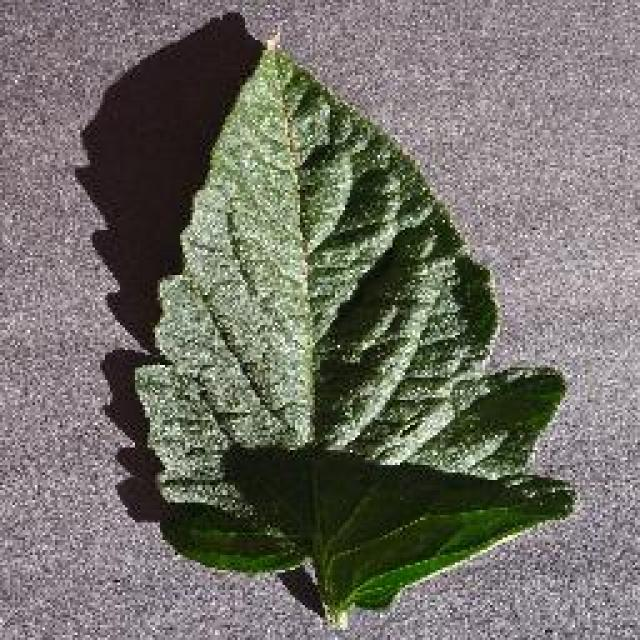Tomato_Healthy: (89, 28, 583, 586)
